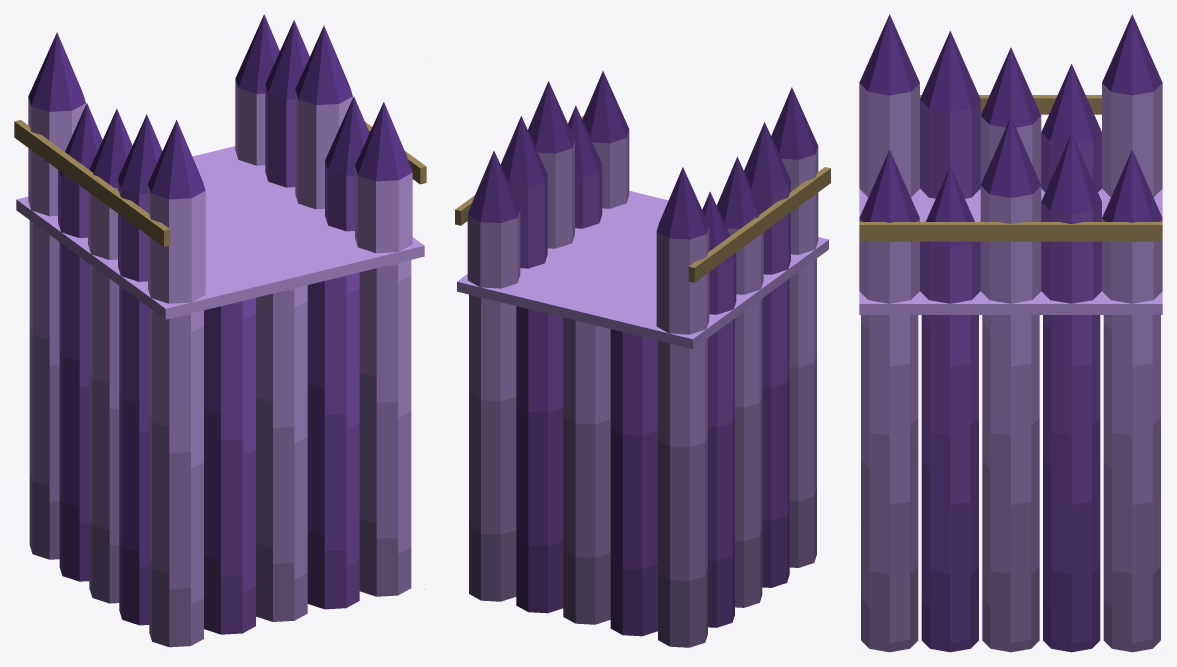
File: perimeter_wall_crystal_f5.glb
3 renders of one model, left to right at view 1: azimuth 30°, elevation 25°; view 2: azimuth 150°, elevation 25°; view 3: azimuth 270°, elevation 25°, orthographic. The views are drawn at different scales.
Size of the model in its own units: 2.03 by 3.9 by 2.
1 material, 1 textured.
